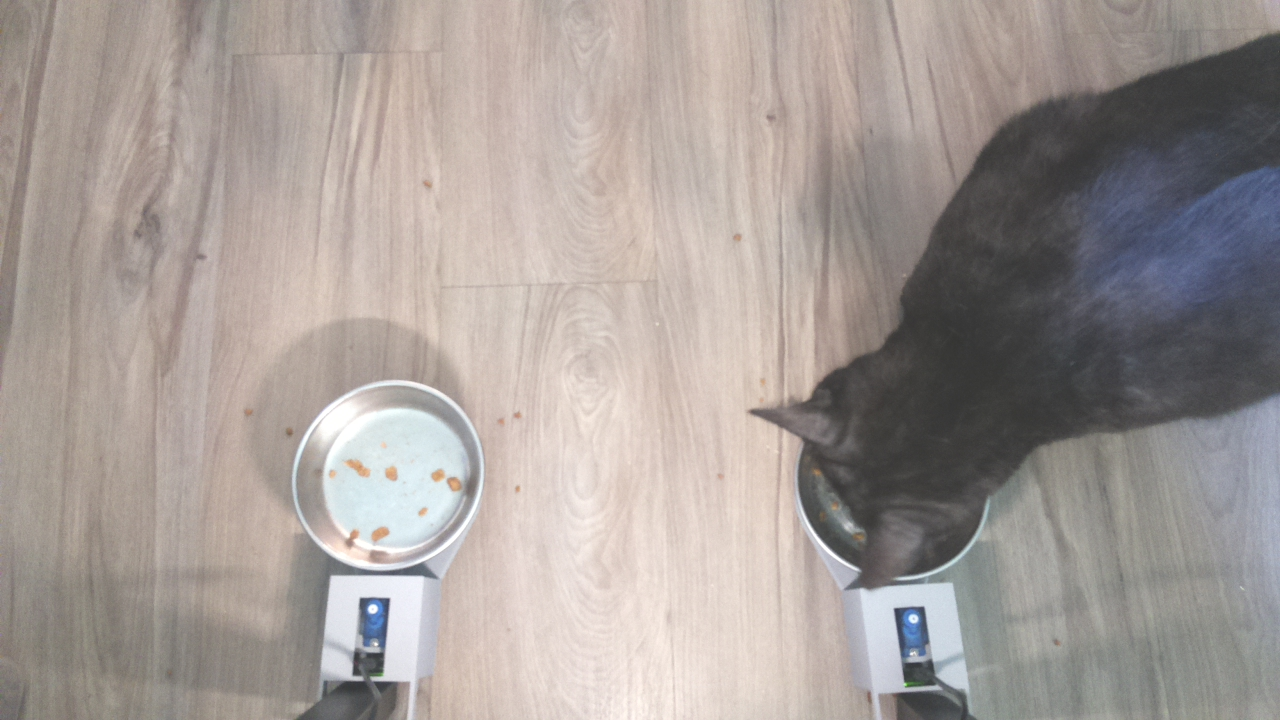open_bowl: (292, 378, 482, 577)
saki_eating: (737, 333, 1015, 599)
